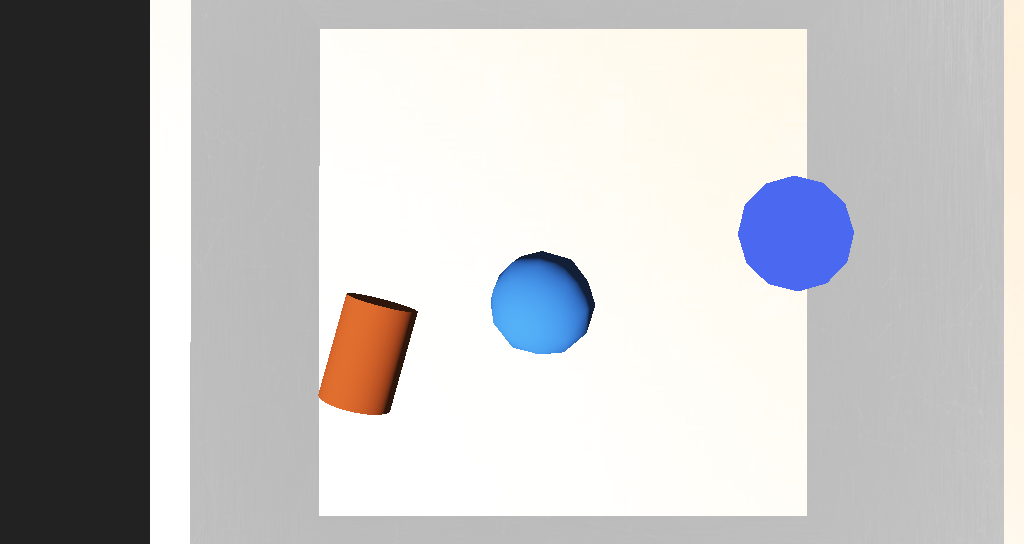cone: (350, 279, 418, 332)
cylinder: (596, 229, 670, 277)
sphere: (461, 258, 522, 305)
